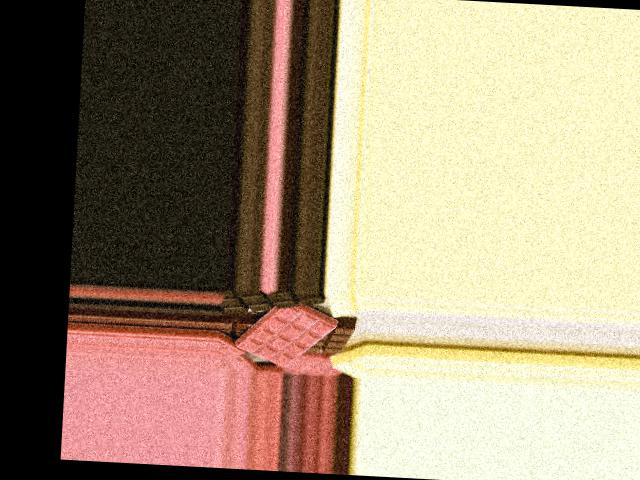chocolate: (233, 287, 337, 372)
